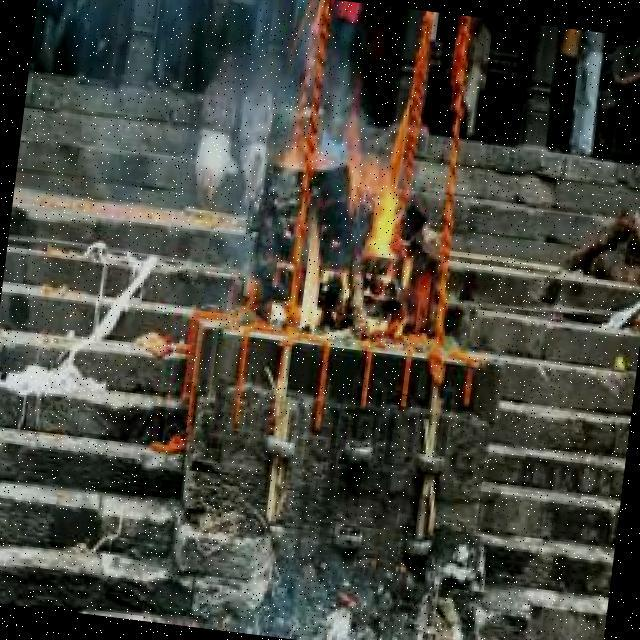Fire: (286, 119, 410, 342)
